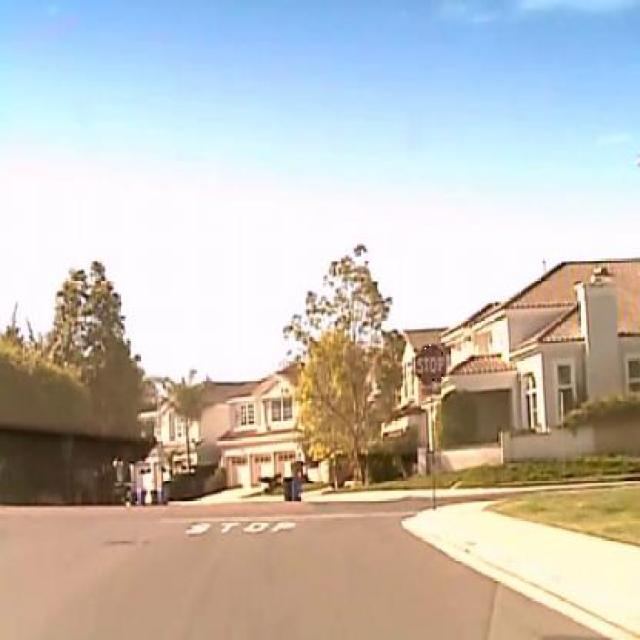stop: (414, 343, 447, 387)
